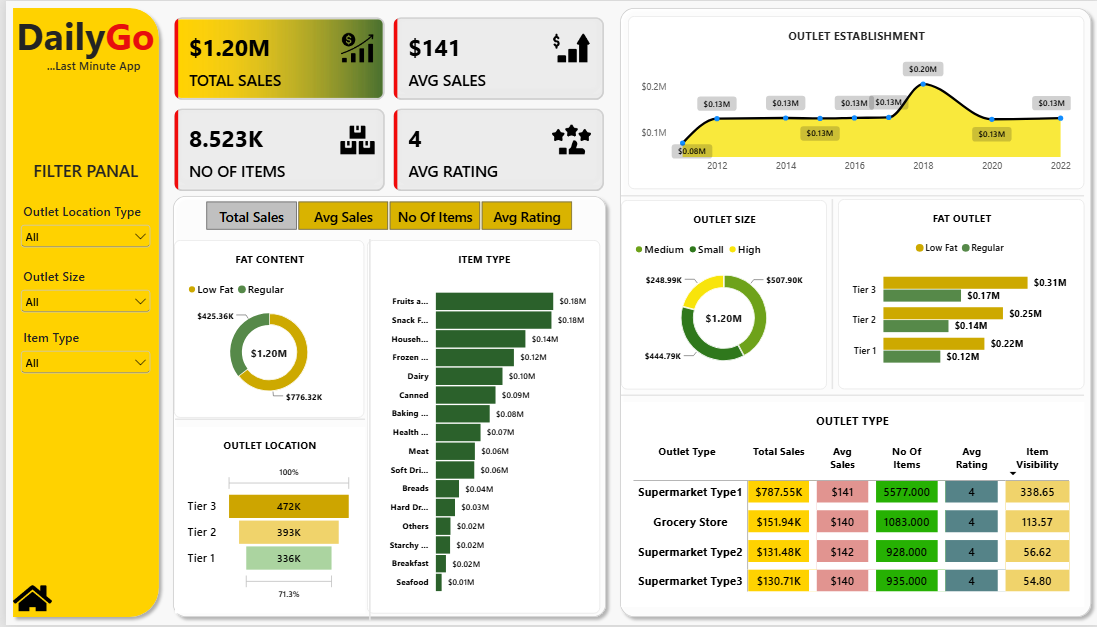

The page's visual inventory and layout, read from the dashboard file:
{"tool":"powerbi","page":{"name":"Page 1","canvas":[1400,800],"ordinal":0},"visuals":[{"type":"shape","box":[777.5,0,622.5,798.8],"z":0},{"type":"shape","box":[0,0,205.1,798.7],"z":1000},{"type":"textbox","box":[9,77,170,19],"z":2000},{"type":"textbox","box":[8.9,10.1,186.1,67.1],"z":3000},{"type":"textbox","box":[53.2,73.4,125.3,24.1],"z":4000},{"type":"cardVisual","fields":{"Data":["DailyGo Analysis Data.Total Sales","DailyGo Analysis Data.Avg Sales","DailyGo Analysis Data.No Of Items","DailyGo Analysis Data.Avg Rating"]},"box":[205,10,572.5,245],"z":6000},{"type":"image","box":[425,35,50,50],"z":7000},{"type":"image","box":[425,152.5,50,50],"z":8000},{"type":"image","box":[700,152.5,50,50],"z":9000},{"type":"image","box":[700,35,50,50],"z":10000},{"type":"shape","box":[205,241.2,583.8,557.5],"z":11000},{"type":"donutChart","title":"FAT CONTENT","fields":{"Category":["DailyGo Analysis Data.Item Fat Content"],"Y":["DailyGo Analysis Data.Total Sales"]},"box":[216.2,352.5,243.8,181.2],"z":12000},{"type":"slicer","fields":{"Values":["Metrics 2.Metrics"]},"box":[236.2,255,508.8,40],"z":13000},{"type":"clusteredBarChart","title":"FAT OUTLET","fields":{"Category":["DailyGo Analysis Data.Outlet Location Type"],"Series":["DailyGo Analysis Data.Item Fat Content"],"Y":["DailyGo Analysis Data.Total Sales"]},"box":[1066.2,253.8,316.2,243.8],"z":14000},{"type":"shape","box":[216.2,525,243.8,21.2],"z":15000},{"type":"shape","box":[1052.5,253.8,13.8,243.8],"z":16000},{"type":"barChart","title":"ITEM TYPE","fields":{"Category":["DailyGo Analysis Data.Item Type"],"Y":["DailyGo Analysis Data.Total Sales"]},"box":[462.5,306.2,298.8,478.8],"z":17000},{"type":"lineChart","title":"OUTLET ESTABLISHMENT","fields":{"Category":["DailyGo Analysis Data.Outlet Establishment Year"],"Y":["DailyGo Analysis Data.Total Sales"]},"box":[788.8,18.8,593.8,222.5],"z":18000},{"type":"shape","box":[788.8,241.2,593.8,17.5],"z":19000},{"type":"donutChart","title":"OUTLET SIZE","fields":{"Category":["DailyGo Analysis Data.Outlet Size"],"Y":["DailyGo Analysis Data.Total Sales"]},"box":[788.8,255,263.8,242.5],"z":20000},{"type":"shape","box":[460,305,12.5,490],"z":21000},{"type":"funnel","title":"OUTLET LOCATION","fields":{"Category":["DailyGo Analysis Data.Outlet Location Type"],"Y":["Sum(DailyGo Analysis Data.Sales)"]},"box":[216.2,546.2,243.8,238.8],"z":22000},{"type":"shape","box":[788.8,497.5,593.8,16.2],"z":23000},{"type":"pivotTable","title":"OUTLET TYPE","fields":{"Rows":["DailyGo Analysis Data.Outlet Type"],"Values":["DailyGo Analysis Data.Total Sales","DailyGo Analysis Data.Avg Sales","DailyGo Analysis Data.No Of Items","DailyGo Analysis Data.Avg Rating","Sum(DailyGo Analysis Data.Item Visibility)"]},"box":[788.8,513.8,593.8,262.5],"z":24000},{"type":"slicer","fields":{"Values":["DailyGo Analysis Data.Outlet Location Type"]},"box":[13.8,258.8,176.2,77.5],"z":25000},{"type":"slicer","fields":{"Values":["DailyGo Analysis Data.Outlet Size"]},"box":[13.8,342.5,176.2,77.5],"z":26000},{"type":"slicer","fields":{"Values":["DailyGo Analysis Data.Item Type"]},"box":[13.8,420,176.2,77.5],"z":27000},{"type":"textbox","box":[13.8,202.5,176.2,27.5],"z":27001},{"type":"image","box":[8.8,742.5,50,42.5],"z":27002}]}

Visuals, with their boxes in screenshot pixels (x1, y1, x2, y2), scaled from the page's 1400x800 canvas onto the 1097x627 screenshot:
shape: <region>609, 0, 1096, 626</region>
shape: <region>0, 0, 161, 626</region>
textbox: <region>7, 60, 140, 75</region>
textbox: <region>7, 8, 153, 61</region>
textbox: <region>42, 58, 140, 76</region>
cardVisual - DailyGo Analysis Data.Total Sales x DailyGo Analysis Data.Avg Sales: <region>161, 8, 609, 200</region>
image: <region>333, 27, 372, 67</region>
image: <region>333, 120, 372, 159</region>
image: <region>548, 120, 588, 159</region>
image: <region>548, 27, 588, 67</region>
shape: <region>161, 189, 618, 626</region>
"FAT CONTENT" donutChart: <region>169, 276, 360, 418</region>
slicer - Metrics 2.Metrics: <region>185, 200, 584, 231</region>
"FAT OUTLET" clusteredBarChart: <region>835, 199, 1083, 390</region>
shape: <region>169, 411, 360, 428</region>
shape: <region>825, 199, 836, 390</region>
"ITEM TYPE" barChart: <region>362, 240, 597, 615</region>
"OUTLET ESTABLISHMENT" lineChart: <region>618, 15, 1083, 189</region>
shape: <region>618, 189, 1083, 203</region>
"OUTLET SIZE" donutChart: <region>618, 200, 825, 390</region>
shape: <region>360, 239, 370, 623</region>
"OUTLET LOCATION" funnel: <region>169, 428, 360, 615</region>
shape: <region>618, 390, 1083, 403</region>
"OUTLET TYPE" pivotTable: <region>618, 403, 1083, 608</region>
slicer - DailyGo Analysis Data.Outlet Location Type: <region>11, 203, 149, 264</region>
slicer - DailyGo Analysis Data.Outlet Size: <region>11, 268, 149, 329</region>
slicer - DailyGo Analysis Data.Item Type: <region>11, 329, 149, 390</region>
textbox: <region>11, 159, 149, 180</region>
image: <region>7, 582, 46, 615</region>
